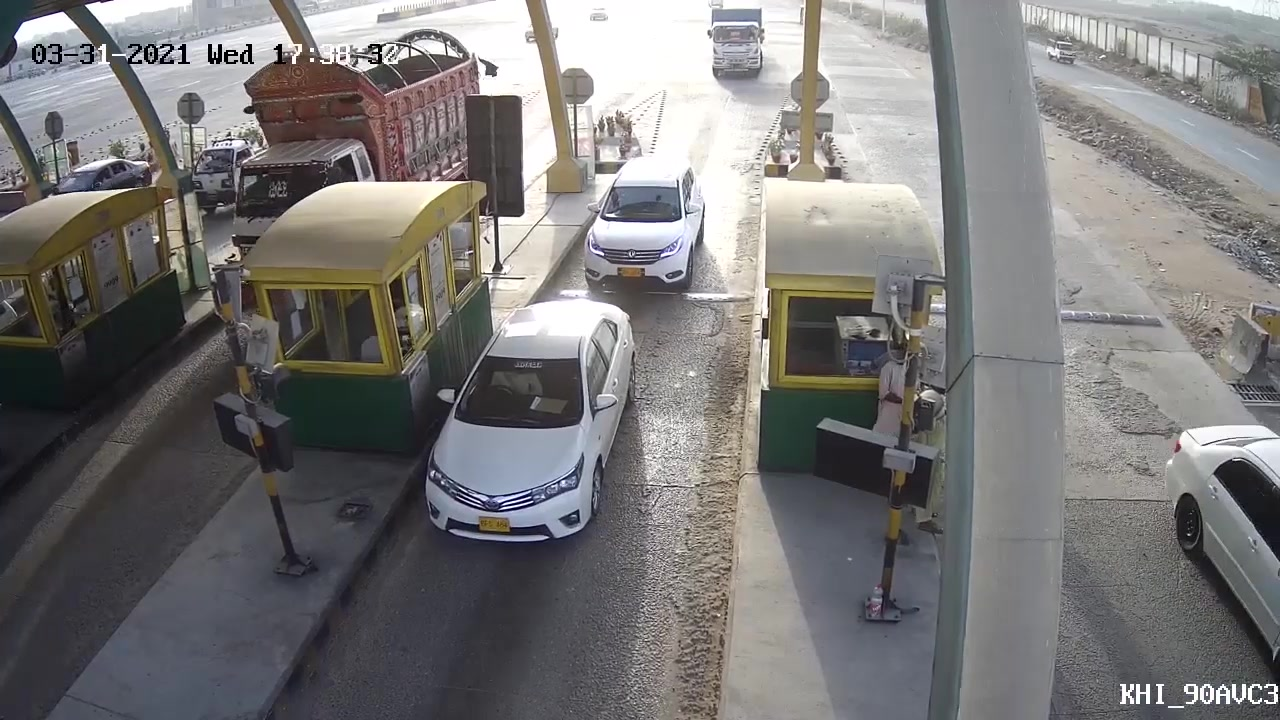F1: (407, 300, 656, 553), (572, 142, 708, 291)
